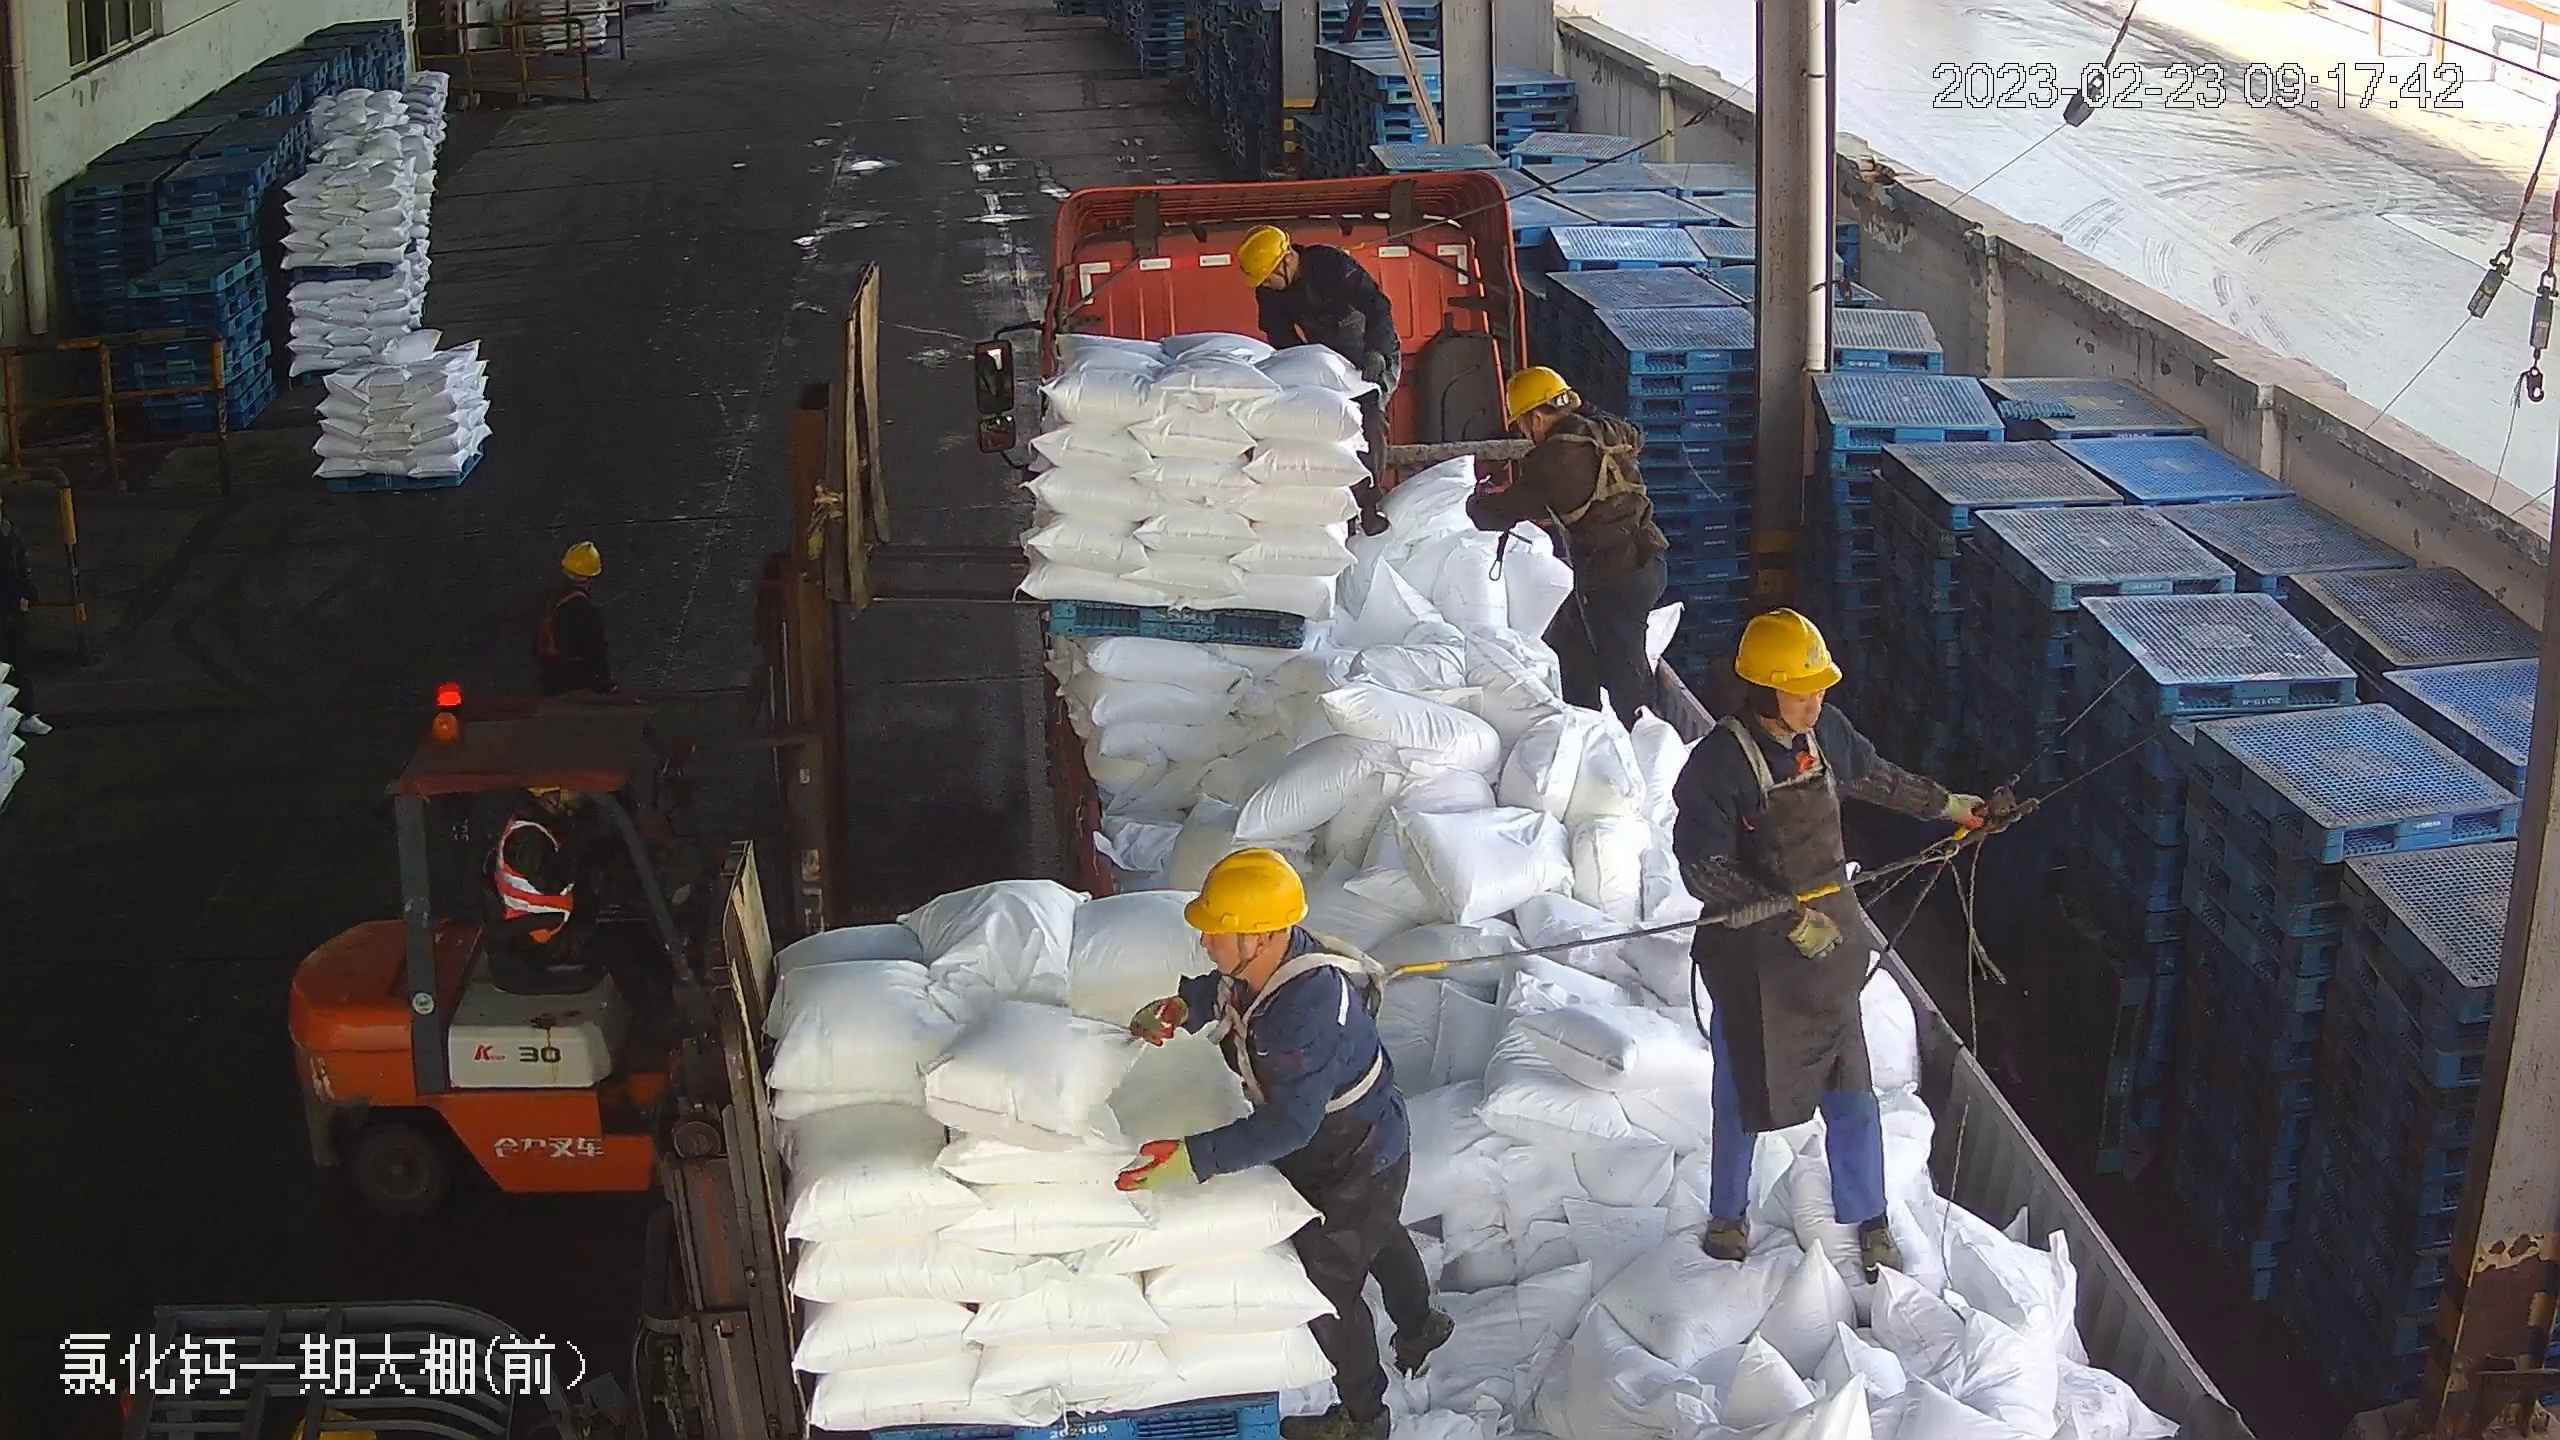belt: (1232, 953, 1437, 1131), (1551, 422, 1653, 525), (1719, 711, 1828, 805), (531, 585, 590, 649), (1322, 235, 1388, 260)
head: (1171, 847, 1359, 1055), (1689, 604, 1862, 803), (1493, 367, 1630, 483), (1231, 225, 1347, 319), (539, 540, 610, 627)
helmet: (1175, 844, 1311, 935), (1730, 603, 1851, 688), (1496, 363, 1578, 422), (1228, 223, 1291, 283), (559, 540, 605, 577)
people: (1679, 601, 1988, 1286), (1120, 846, 1454, 1438), (1469, 363, 1668, 741), (1234, 227, 1402, 551), (485, 785, 665, 1045)
truck: (962, 181, 2250, 1433)
